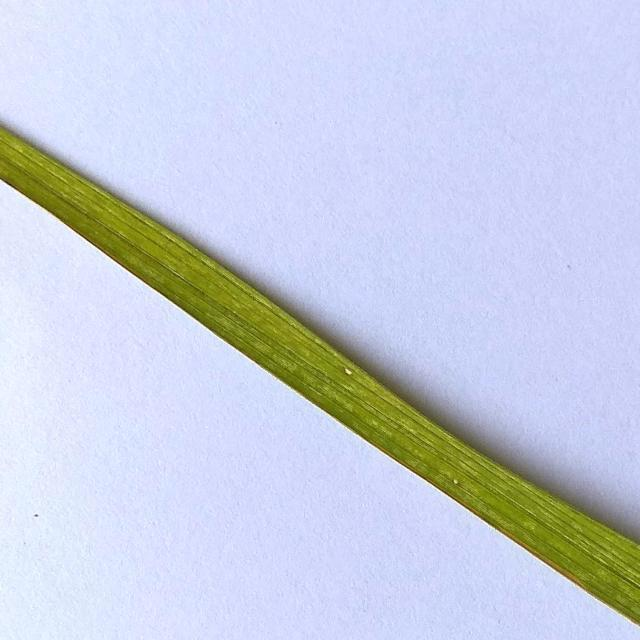Blast: (338, 359, 358, 382), (451, 473, 468, 491)
